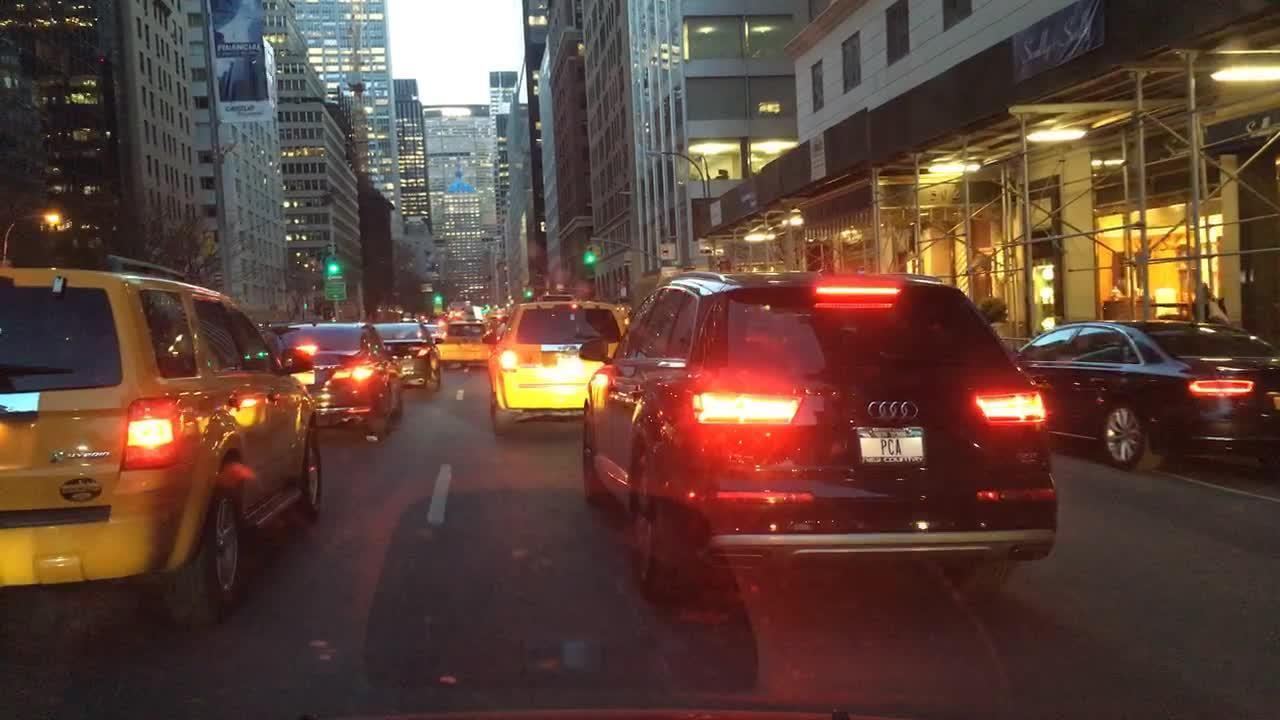Audi: (860, 390, 921, 428)
